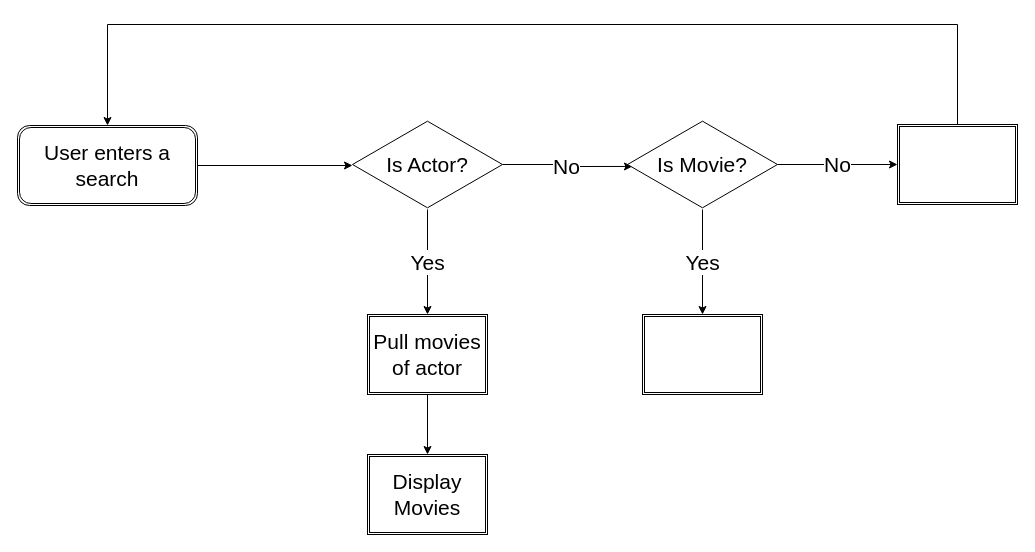
The diagram is 1035 pixels wide and 552 high, and some of its shapes have lost their labels. Here are the shapes that lost their labels. From the top down, the box of each, then its label:
(896, 124, 1018, 204): Display Alert
(642, 314, 762, 394): Display movie
